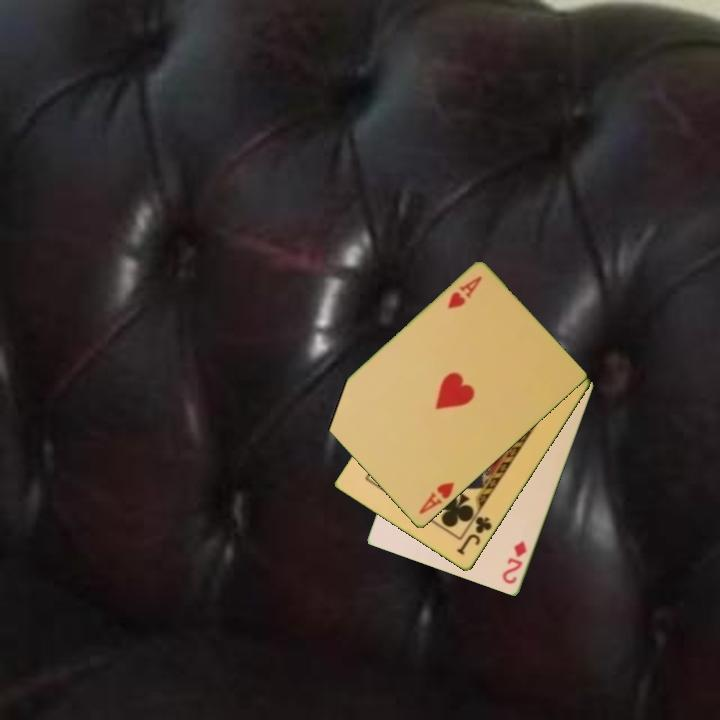2d: (499, 537, 530, 587)
Ah: (415, 478, 457, 517), (444, 273, 485, 312)
Jc: (453, 513, 495, 558)
